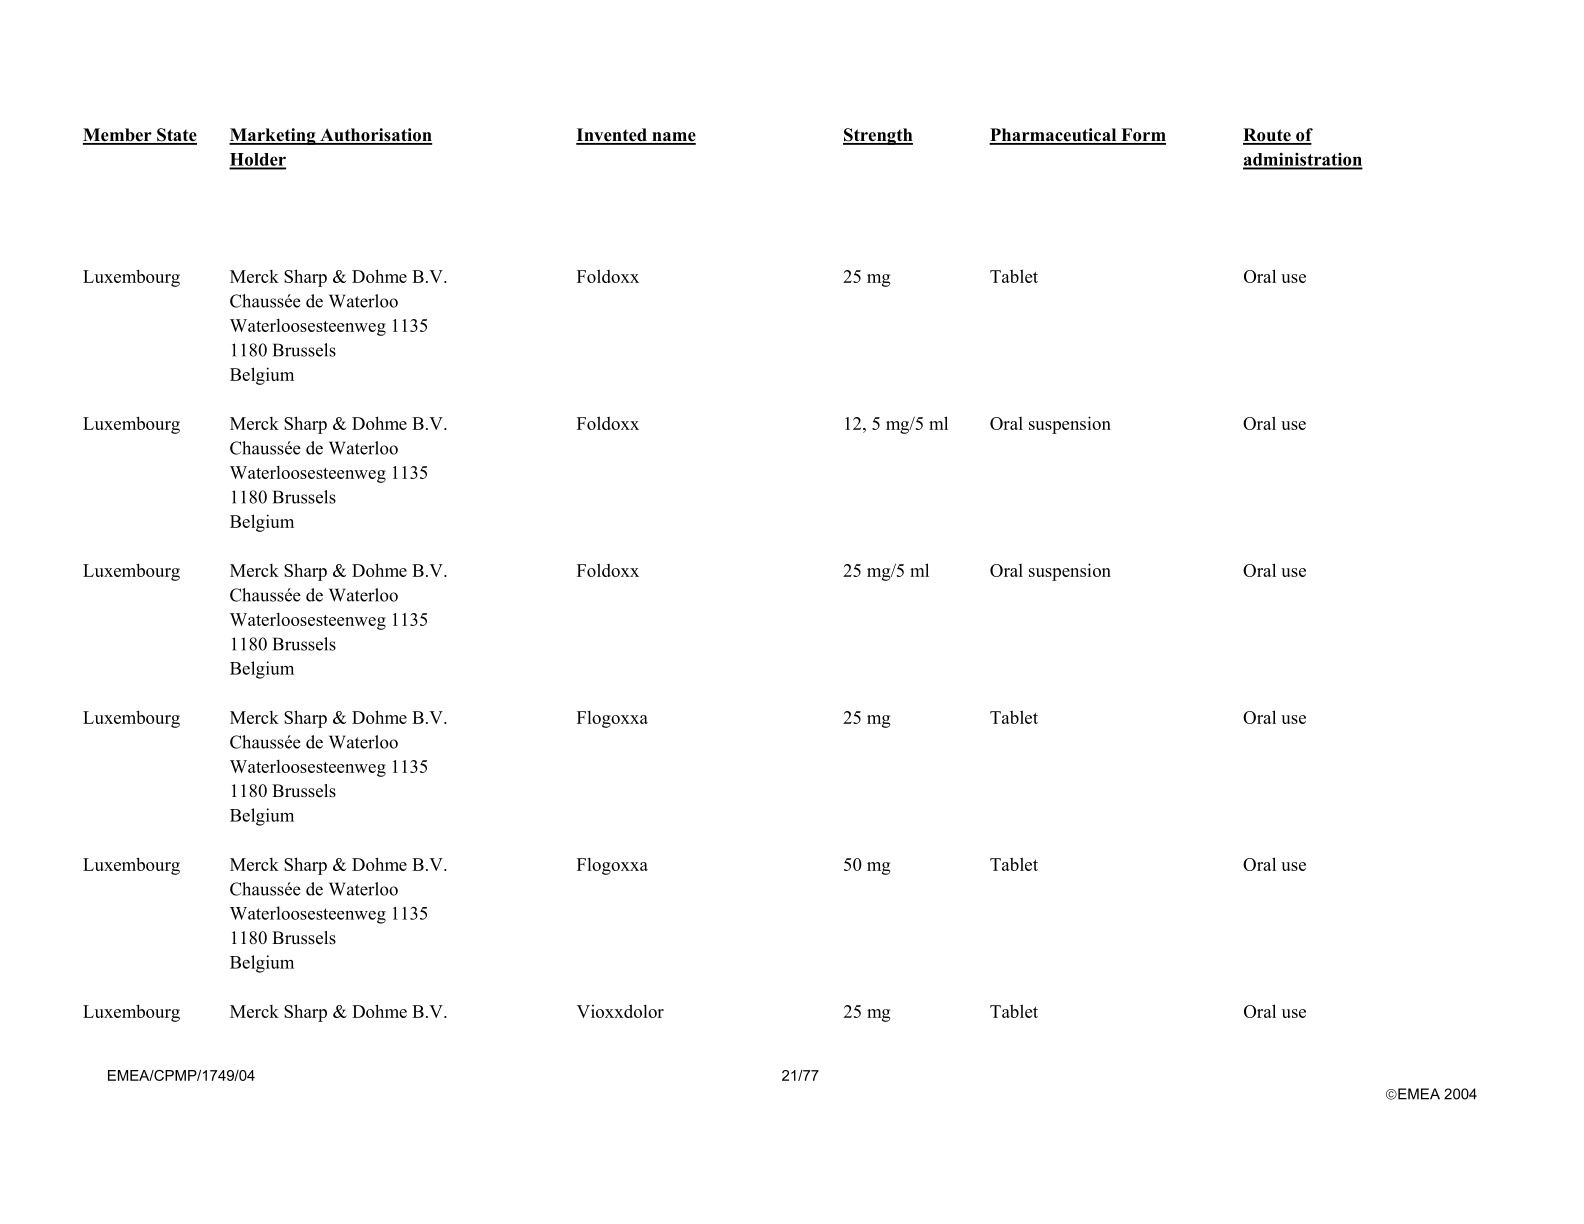nolines: (82, 123, 1364, 1049)
